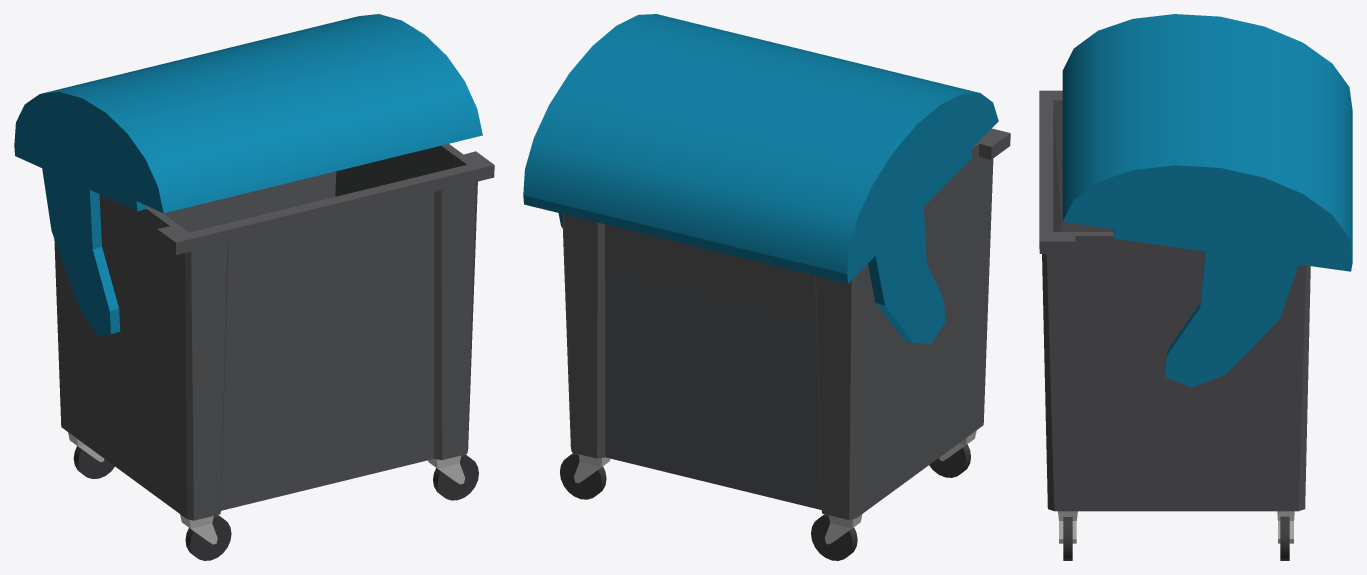
The model's file is M_Sem4_Prop_TonneOffen_FHaufe.fbx.
3 renders of one model, left to right at view 1: azimuth 30°, elevation 25°; view 2: azimuth 150°, elevation 25°; view 3: azimuth 270°, elevation 25°, orthographic. The views are drawn at different scales.
Parts seen in each view (by area): view 1: pCube49; view 2: pCube49; view 3: pCube49.
Part boxes in pixels (<box>): pCube49: <box>14,14,494,560</box>; pCube49: <box>523,14,1010,560</box>; pCube49: <box>1039,14,1352,560</box>.
Size of the model in its own units: 155 by 193 by 135.
